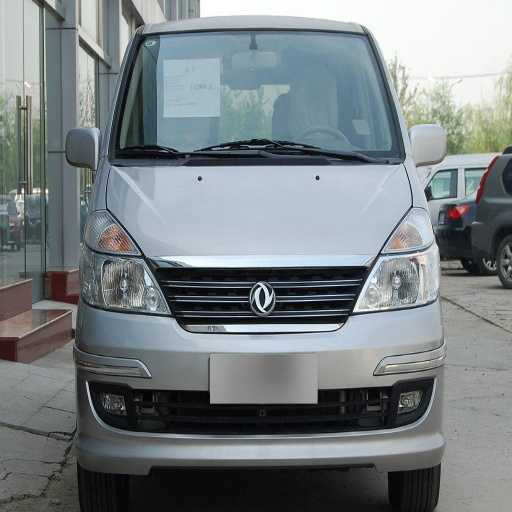front_bumper: (79, 256, 442, 472)
front_right_light: (82, 252, 167, 315)
hood: (105, 164, 421, 317)
left_mirror: (412, 123, 445, 165)
